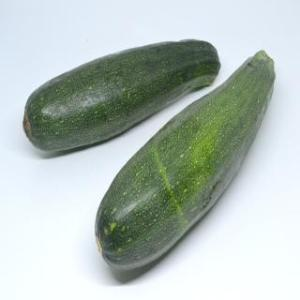zucchini: (20, 30, 221, 120)
